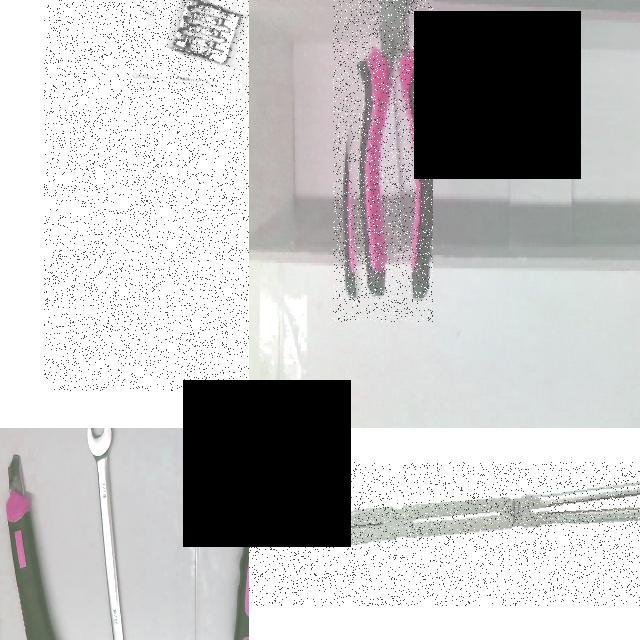estilete: (6, 454, 56, 639)
